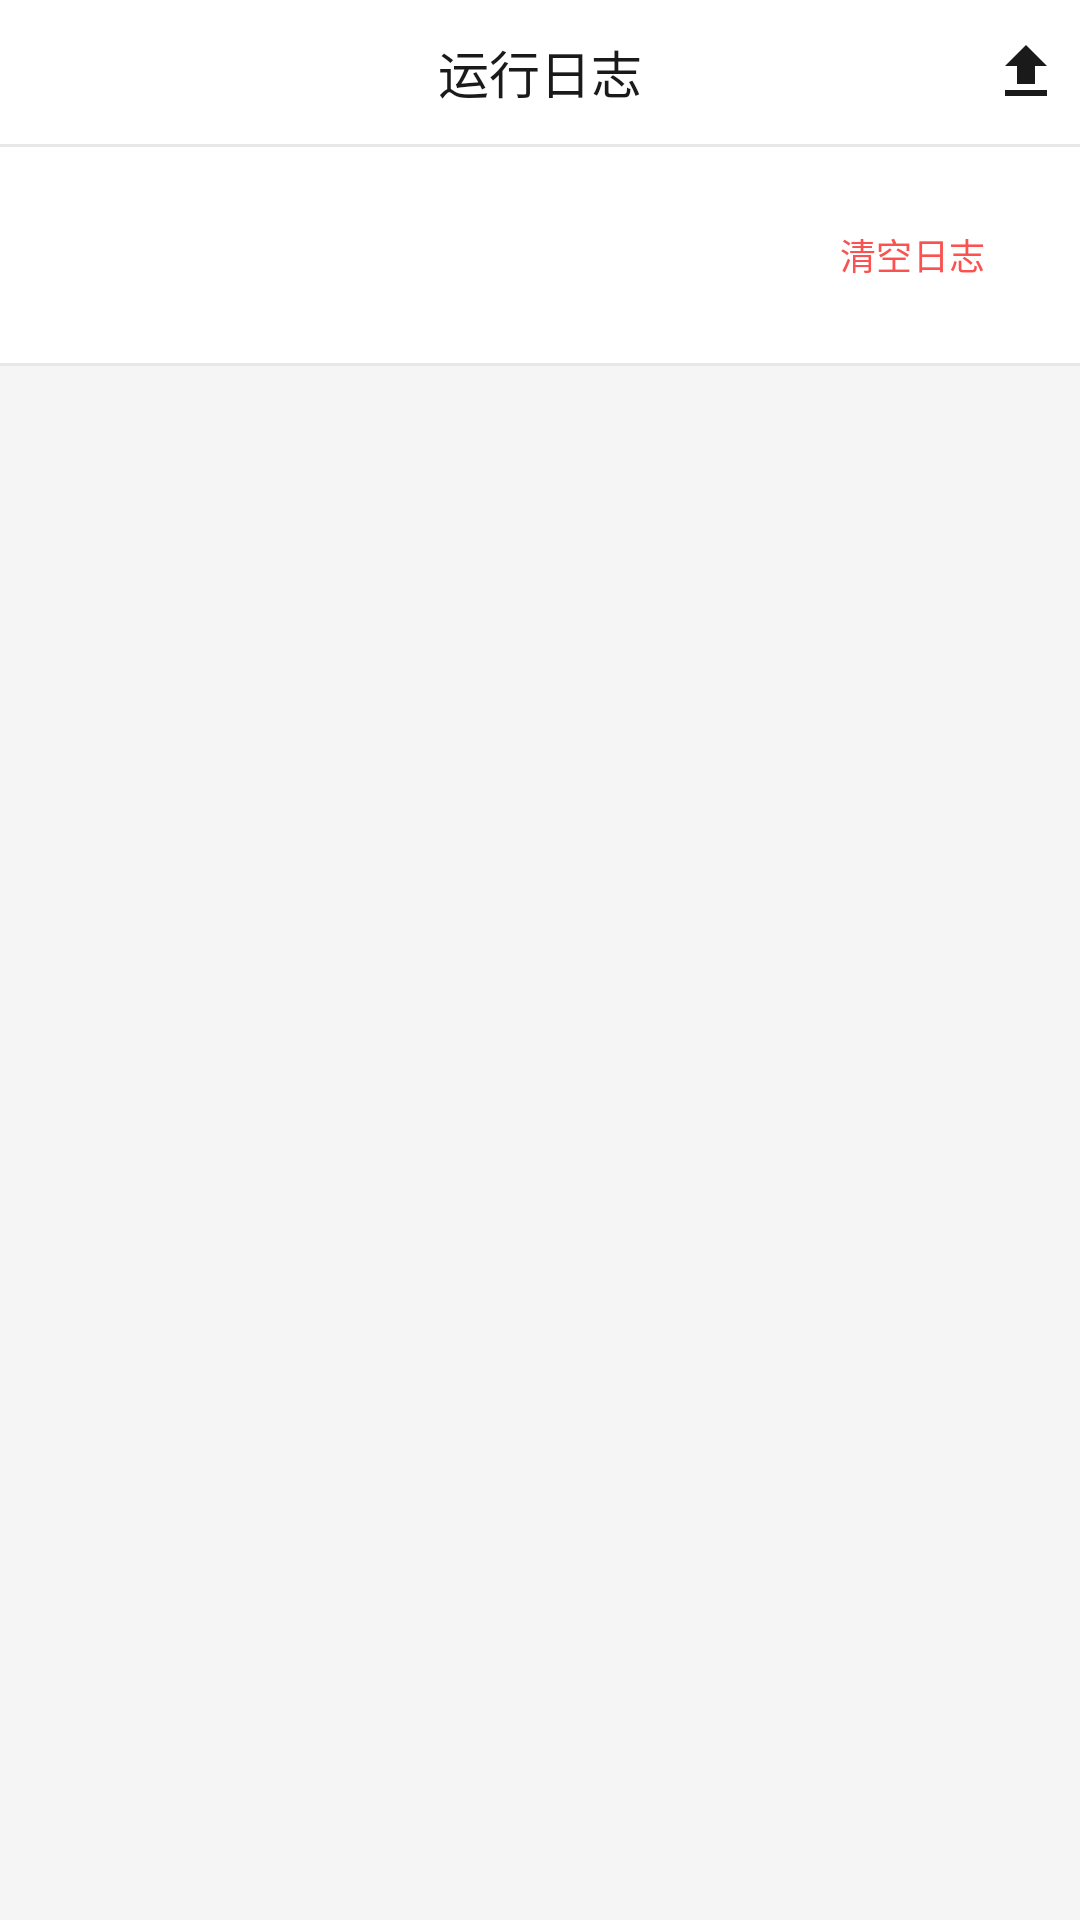

Named icons in this screenshot (1080 x 1920) and their bounding boxes, (x1, y1, x2, y2):
导出日志: (1005, 45, 1047, 96)
